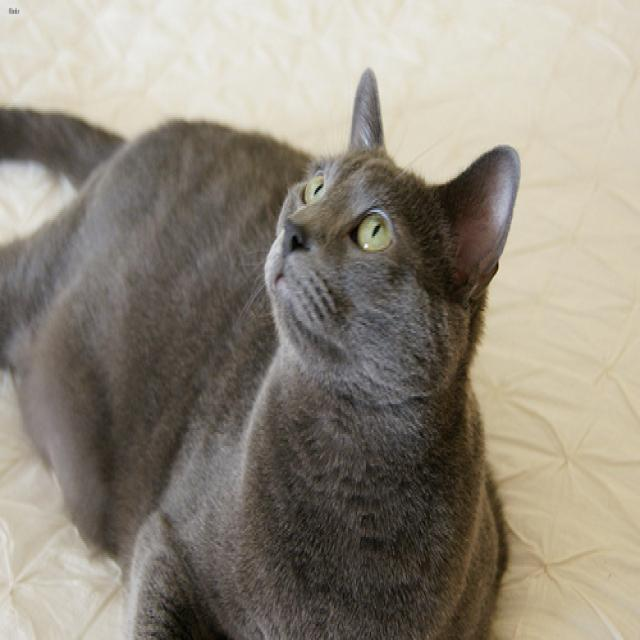Russian_Blue: (263, 68, 519, 369)
